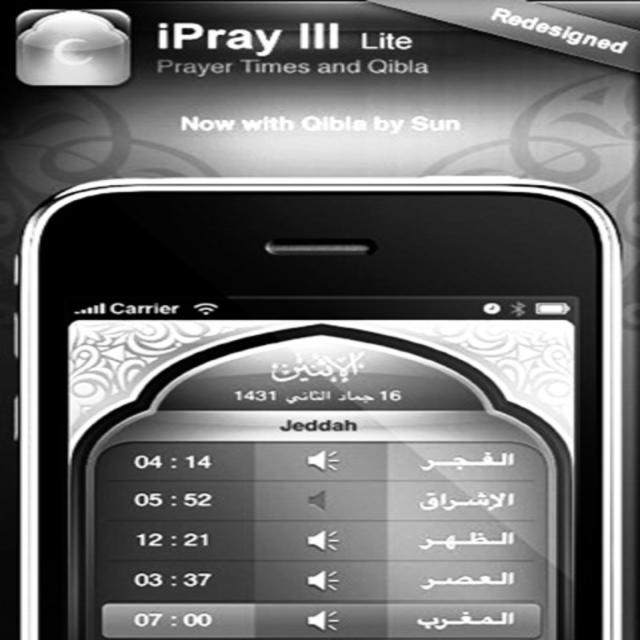Mobile-phone: (10, 153, 620, 618)
